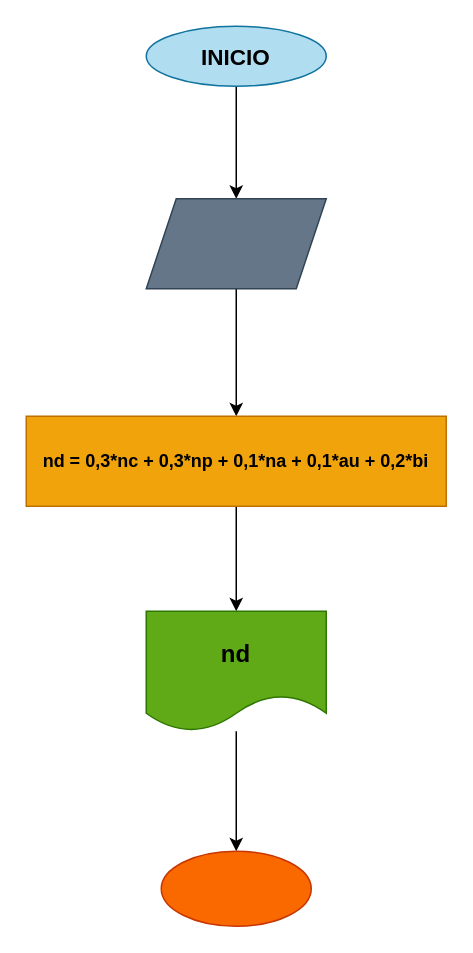
This 473x953 diagram has some shape labels left out. Each missing label, with the centre of its shape:
FIN: point (235, 888)
nc, cp, na, au, bi: point (235, 243)
